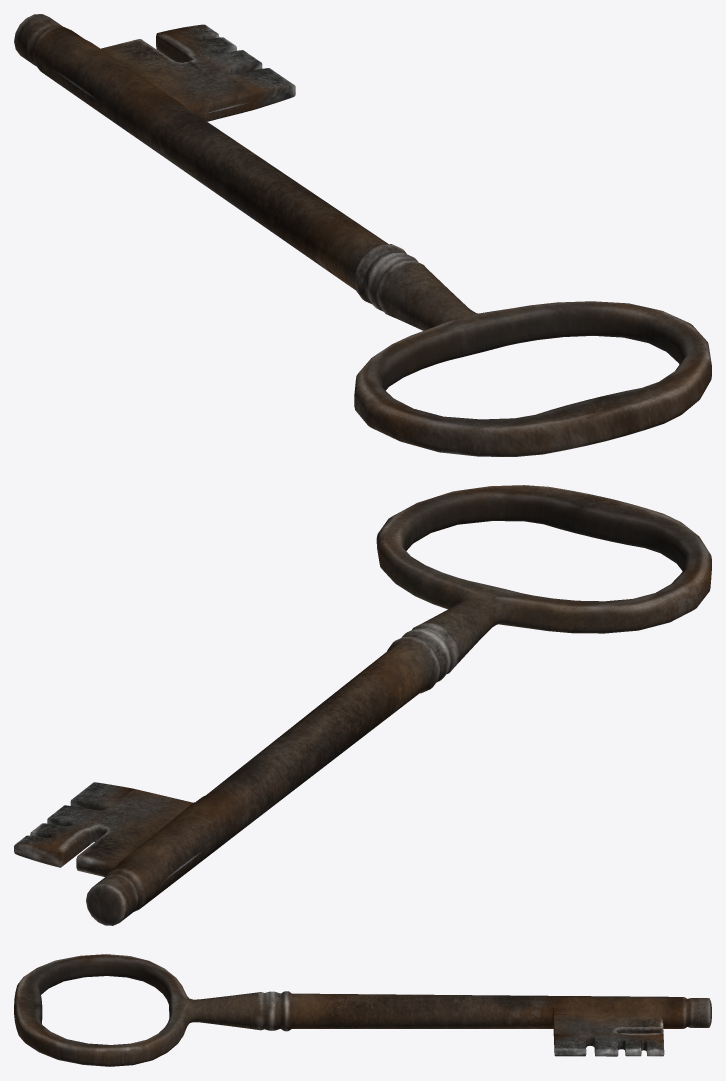
Rendered from InterrogationRoomKey.fbx.
3 renders of one model, top to bottom at view 1: azimuth 30°, elevation 25°; view 2: azimuth 150°, elevation 25°; view 3: azimuth 270°, elevation 25°, orthographic. The views are drawn at different scales.
Parts seen in each view (by area): view 1: InterrogationRoomKey; view 2: InterrogationRoomKey; view 3: InterrogationRoomKey.
Boxes of the visible parts, x1=… form: InterrogationRoomKey: x1=14, y1=14, x2=711, y2=456; InterrogationRoomKey: x1=14, y1=485, x2=711, y2=925; InterrogationRoomKey: x1=14, y1=954, x2=711, y2=1066.
Size of the model in its own units: 29237 by 5057 by 86101.
